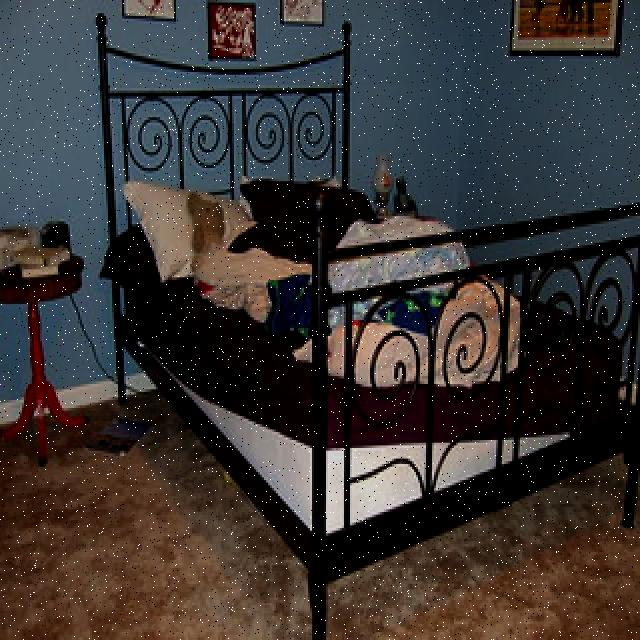bed: (84, 164, 640, 458)
